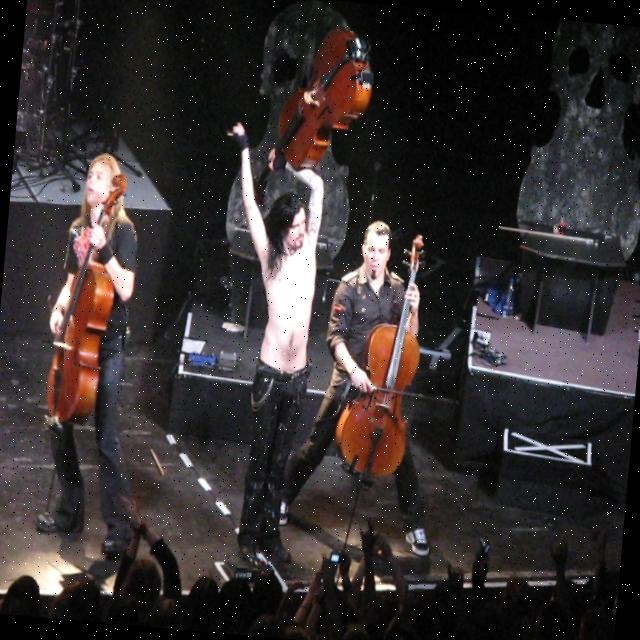cello: (332, 230, 434, 478), (251, 22, 377, 215), (41, 169, 130, 430)
